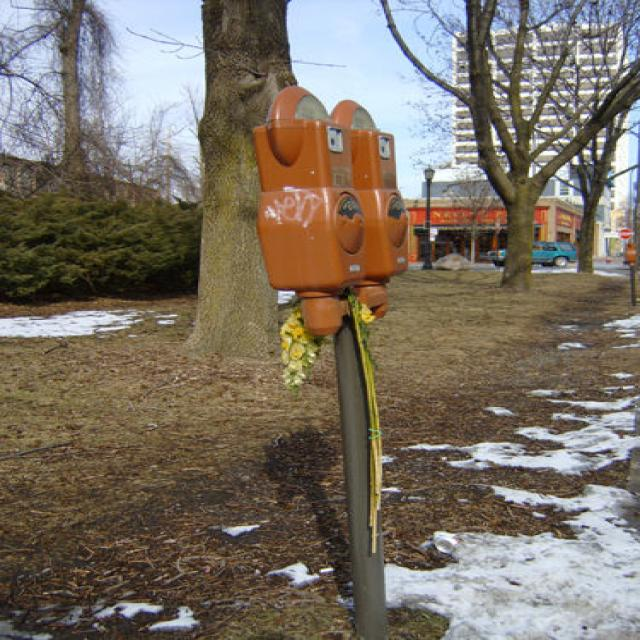Vehicle: (488, 242, 579, 268)
